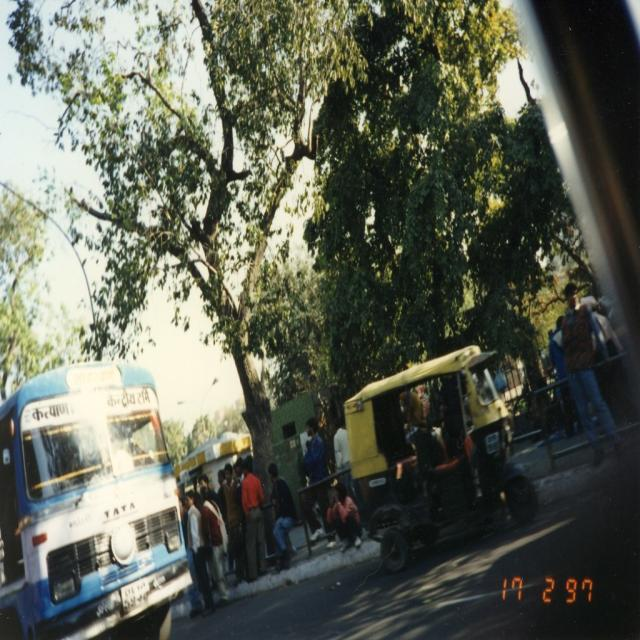Buses: (4, 360, 198, 640)
